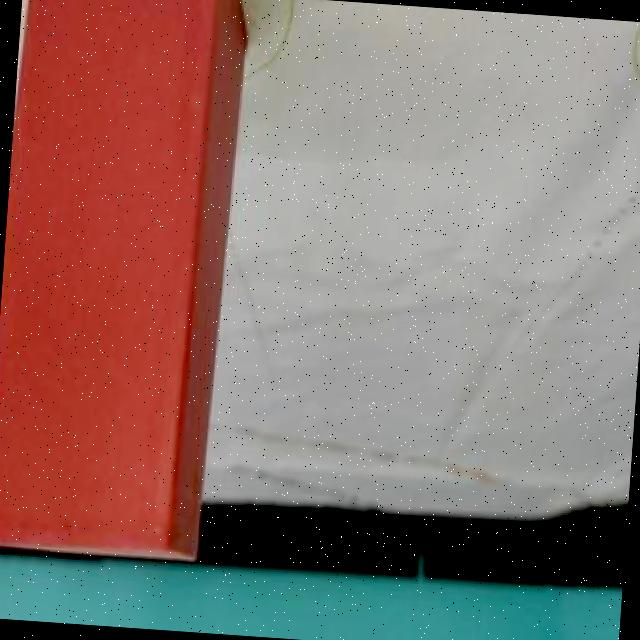redbox: (0, 0, 251, 565)
